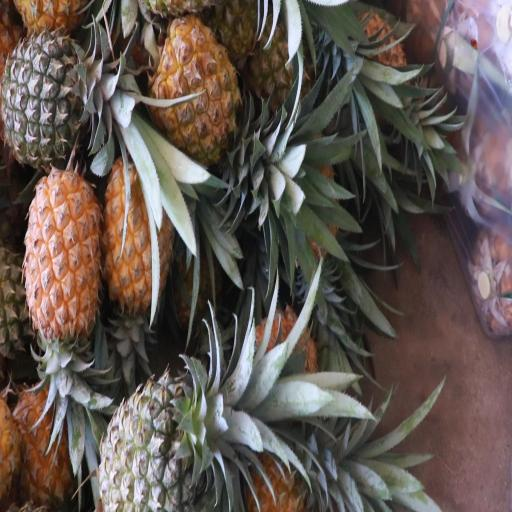Pineapple - v8 v1: (152, 15, 269, 155), (27, 167, 99, 381), (104, 155, 175, 319)
